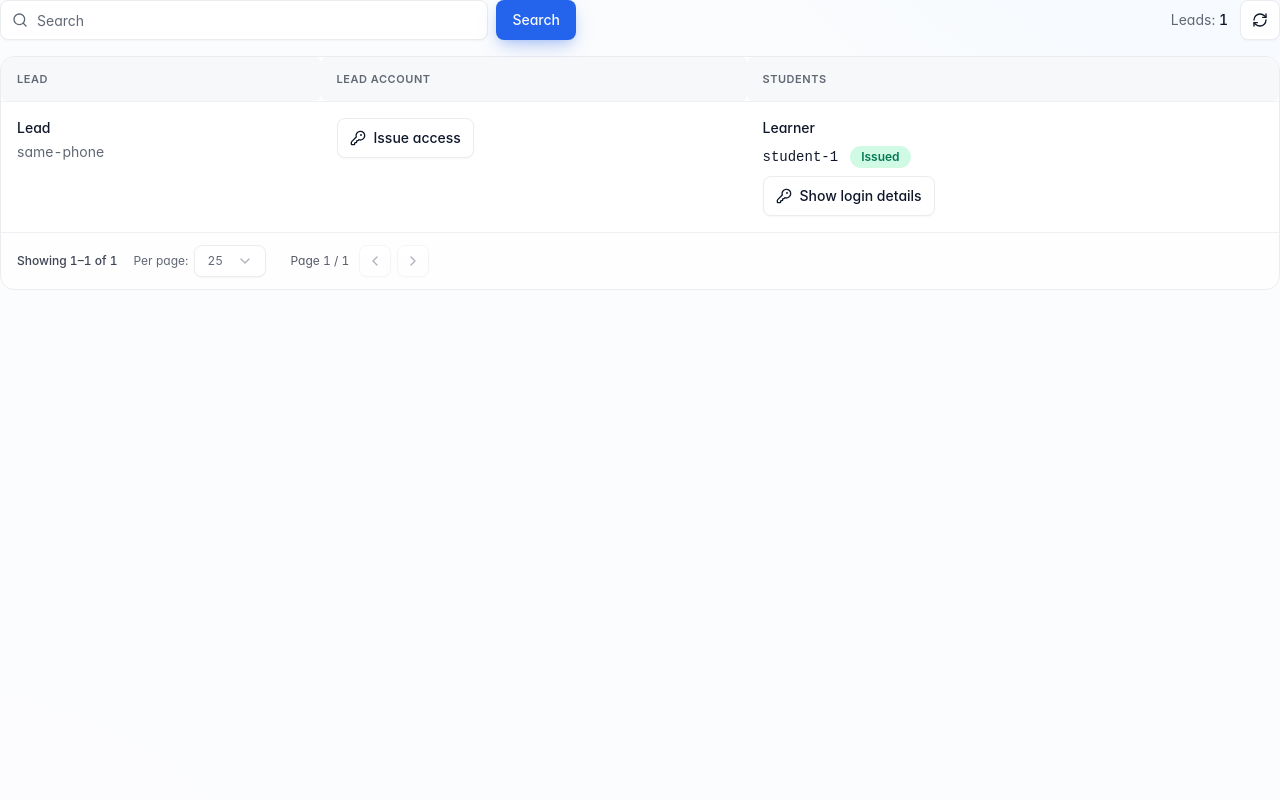
Test: keeps an open credentials dialog when a directory refresh fails
The width and height of the screenshot is (1280, 800).
What coordinates should you click on to do the following:
click the button "Show login details"
I would click on:
 (849, 196)
Its box is [762,176,935,216].
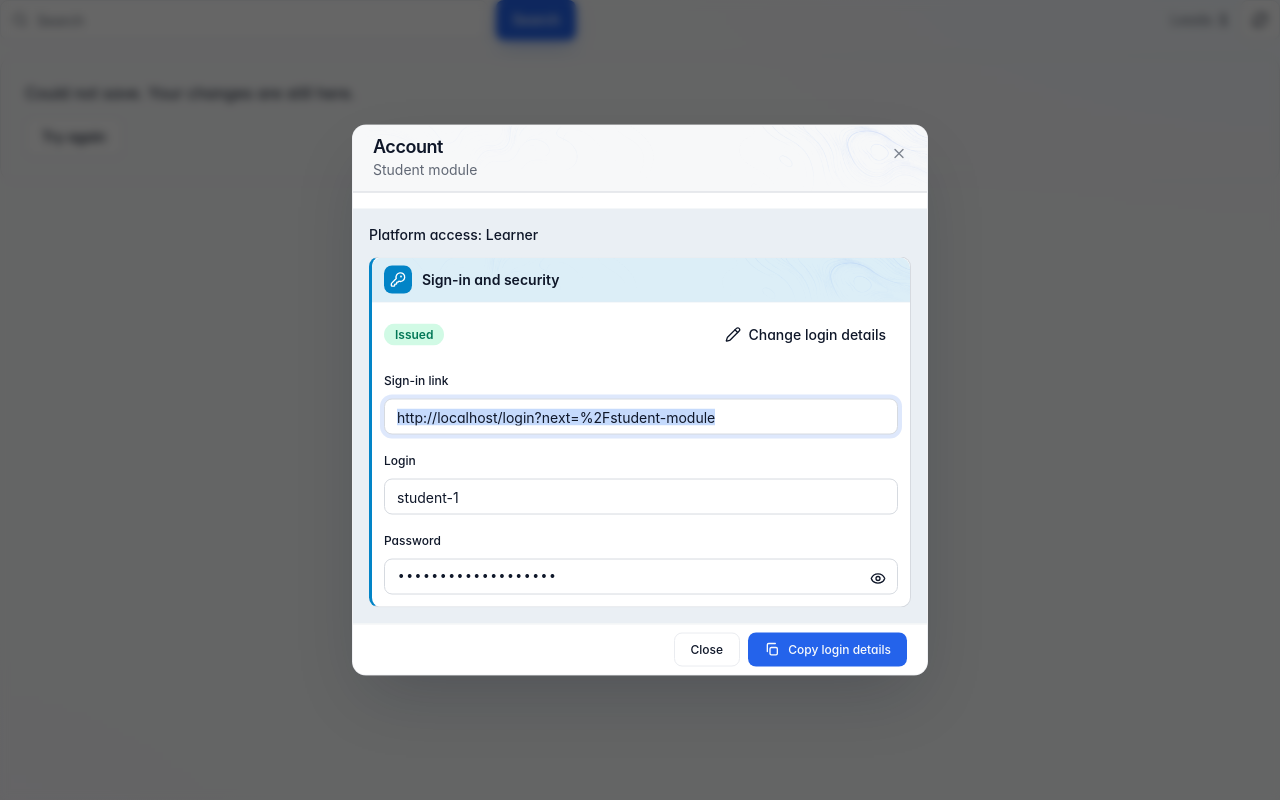
Check: the button "Copy login details" is shown, box [748,632,907,666]
Check: the text "Could not save. Your changes are still here." is shown, box [25,83,355,103]
Check: the dialog is shown, box [352,124,928,676]
